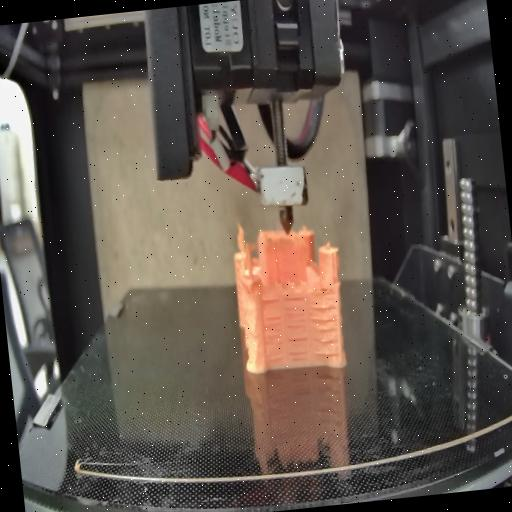cracks: (308, 304, 341, 360), (262, 312, 287, 367), (284, 294, 306, 334), (284, 336, 310, 364), (260, 297, 281, 305), (318, 282, 329, 296)
